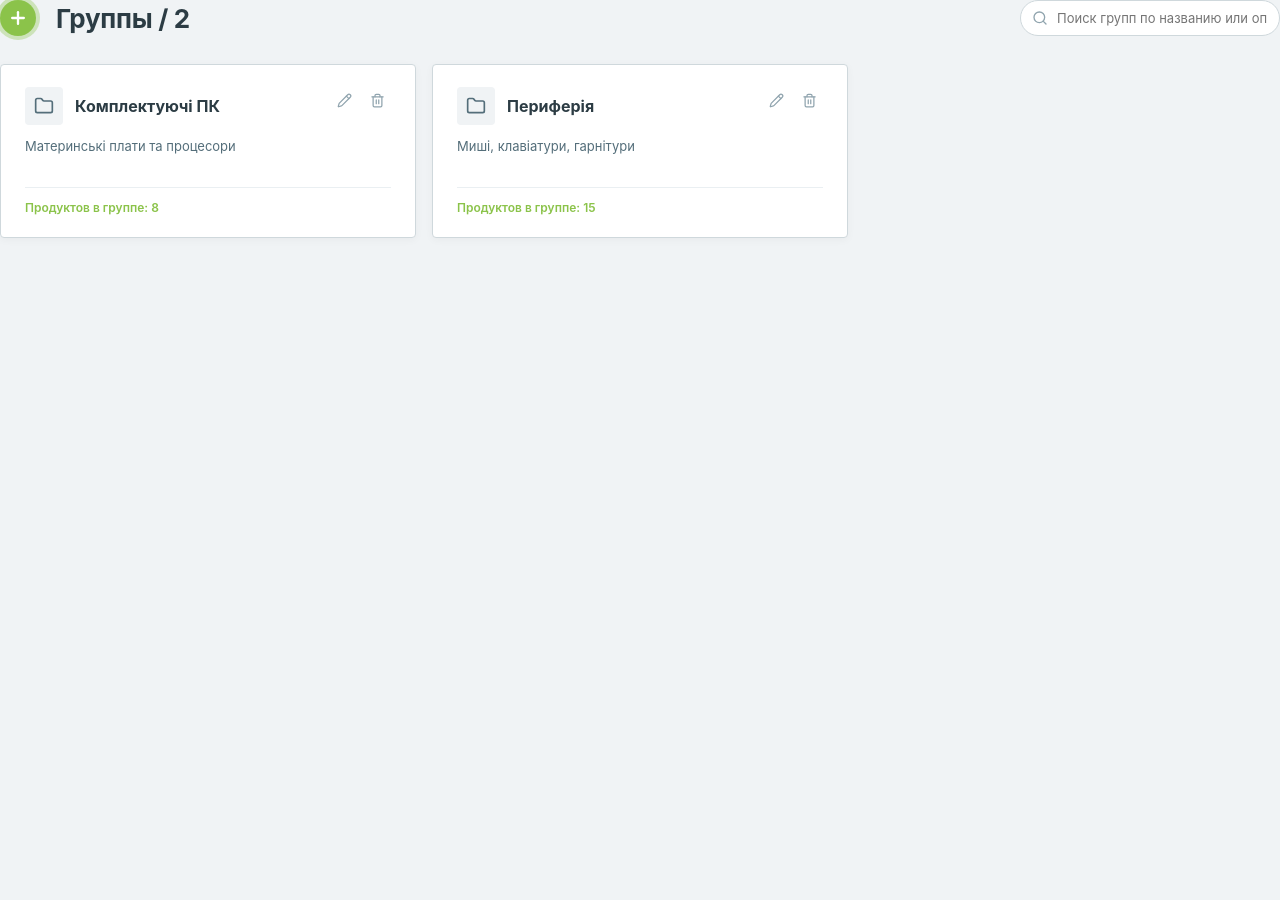
Test case: Frontend Groups Page Integration Tests (CRUD & Real-time) › opens GroupFormModal on + button click and creates a new group
The image size is (1280, 900).
expect the heading "Комплектуючі ПК" is shown: met, box [75,96,220,116]
Step 1. Click the button titled "Добавить группу" → {"x": 18, "y": 18}, box [0,0,36,36]
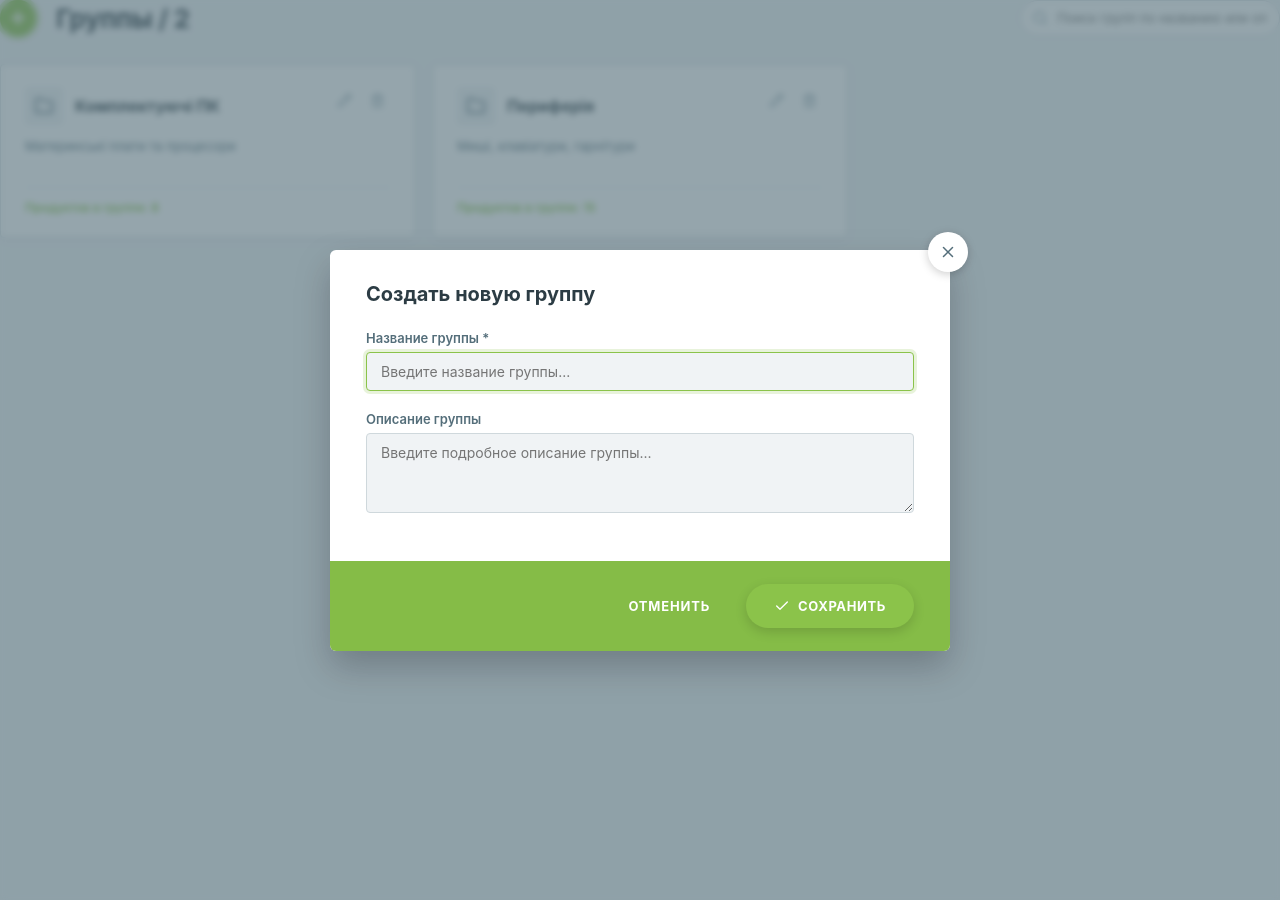
expect the heading "Создать новую группу" is shown: met, box [366,282,595,306]
